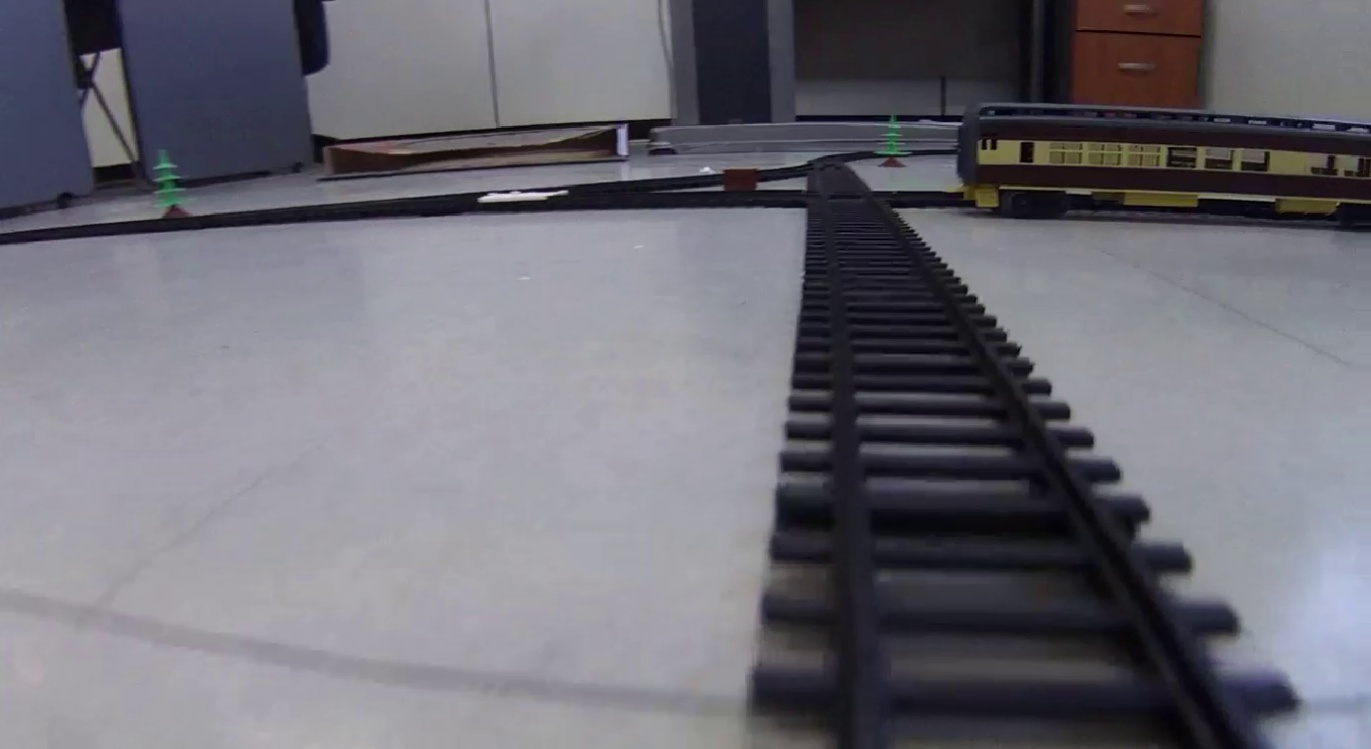tree: (147, 148, 191, 217)
